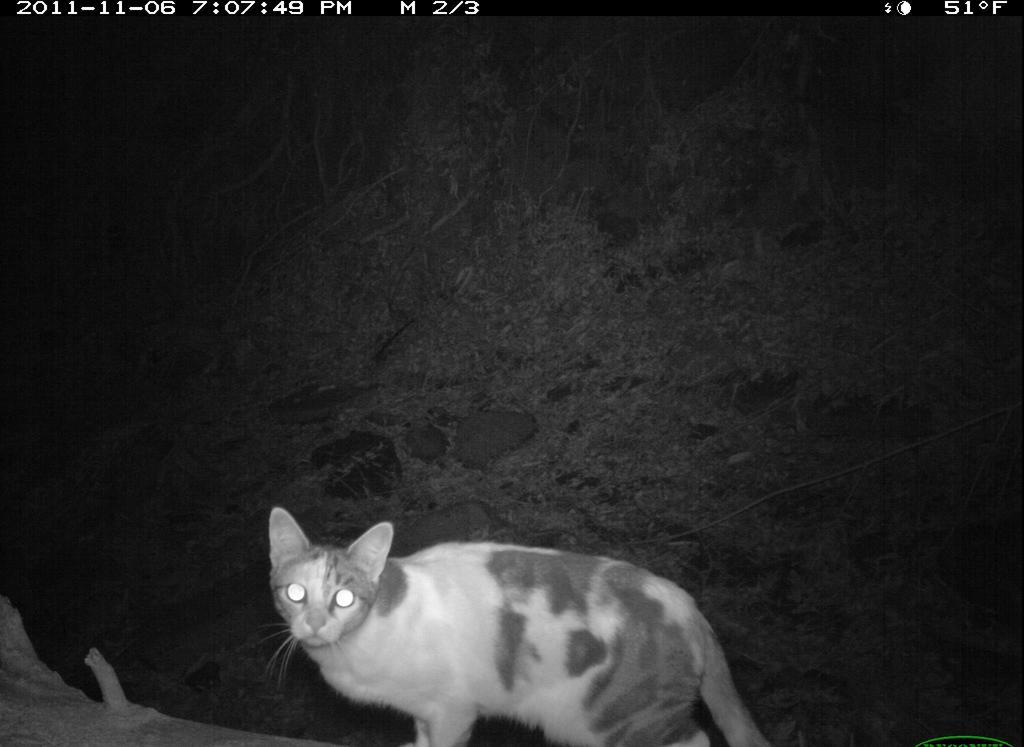cat: (249, 495, 802, 747)
